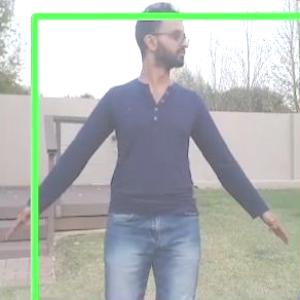land: (10, 7, 284, 299)
